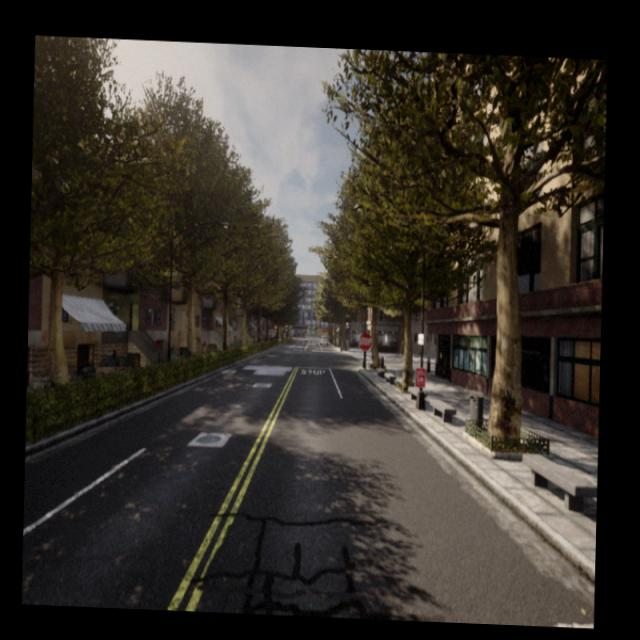stop sign: (357, 326, 374, 369)
